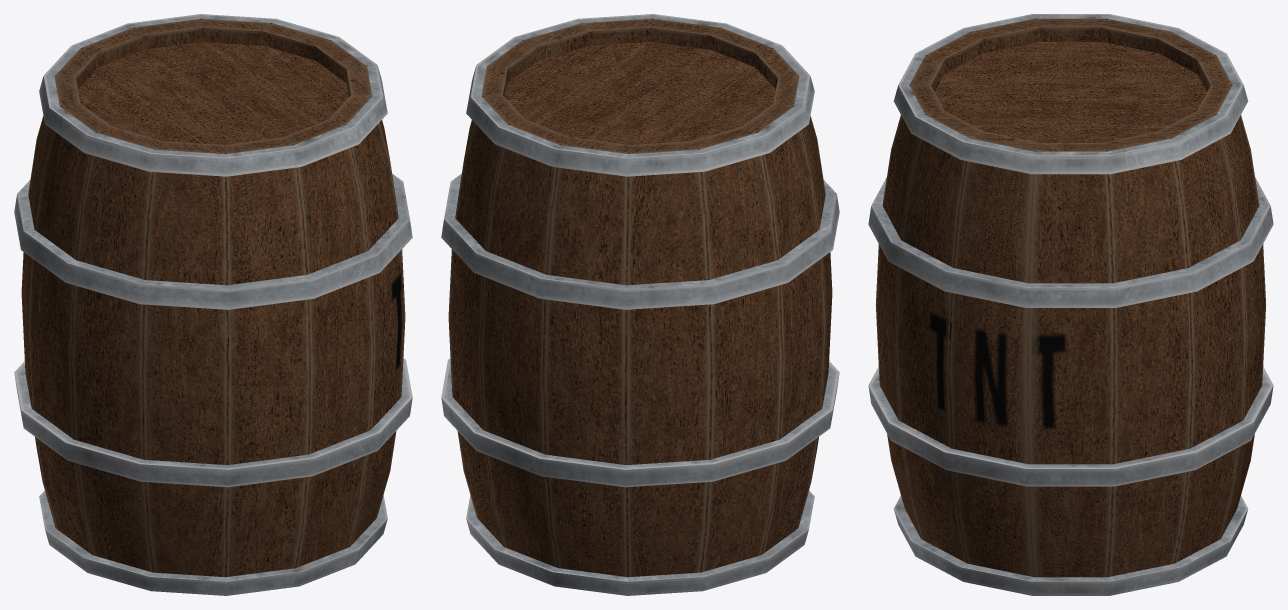
The model's file is ExplosiveBarrel2.fbx.
3 views of the same model, side by side, from view 1: azimuth 30°, elevation 25°; view 2: azimuth 150°, elevation 25°; view 3: azimuth 270°, elevation 25° (orthographic).
Visible parts, largest first — view 1: ExplosiveBarrel2; view 2: ExplosiveBarrel2; view 3: ExplosiveBarrel2.
Part boxes in pixels (x1=…): ExplosiveBarrel2: x1=14, y1=14, x2=412, y2=595; ExplosiveBarrel2: x1=441, y1=14, x2=839, y2=595; ExplosiveBarrel2: x1=868, y1=14, x2=1273, y2=595.
Size of the model in its own units: 0.6255 by 0.768 by 0.6416.
